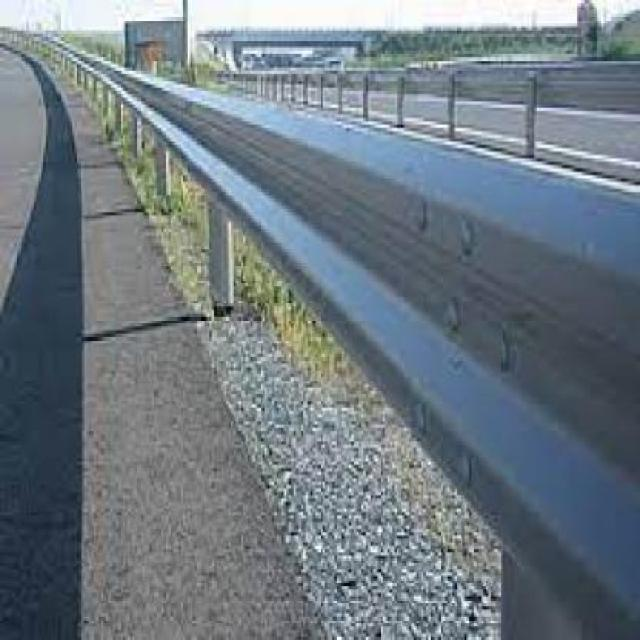Guard rail: (80, 40, 638, 640)
